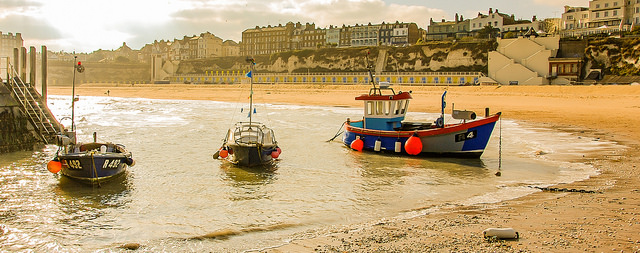fishing_boat: (331, 71, 506, 160), (50, 63, 133, 184), (214, 55, 289, 174)
